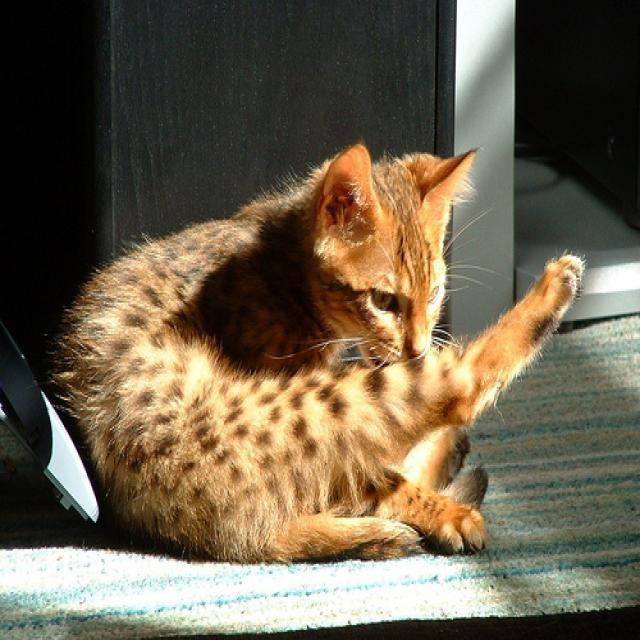Bengal: (310, 115, 486, 374)
